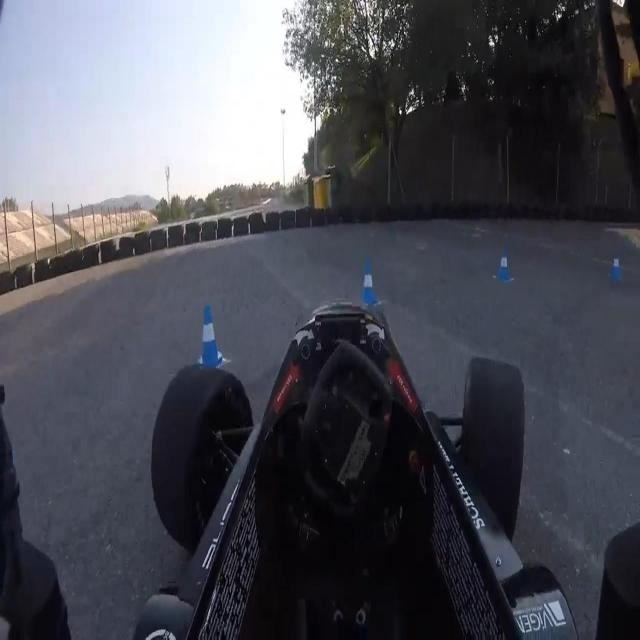blue_cone: (192, 296, 226, 372), (353, 257, 379, 311), (493, 241, 513, 287), (608, 252, 624, 287)
